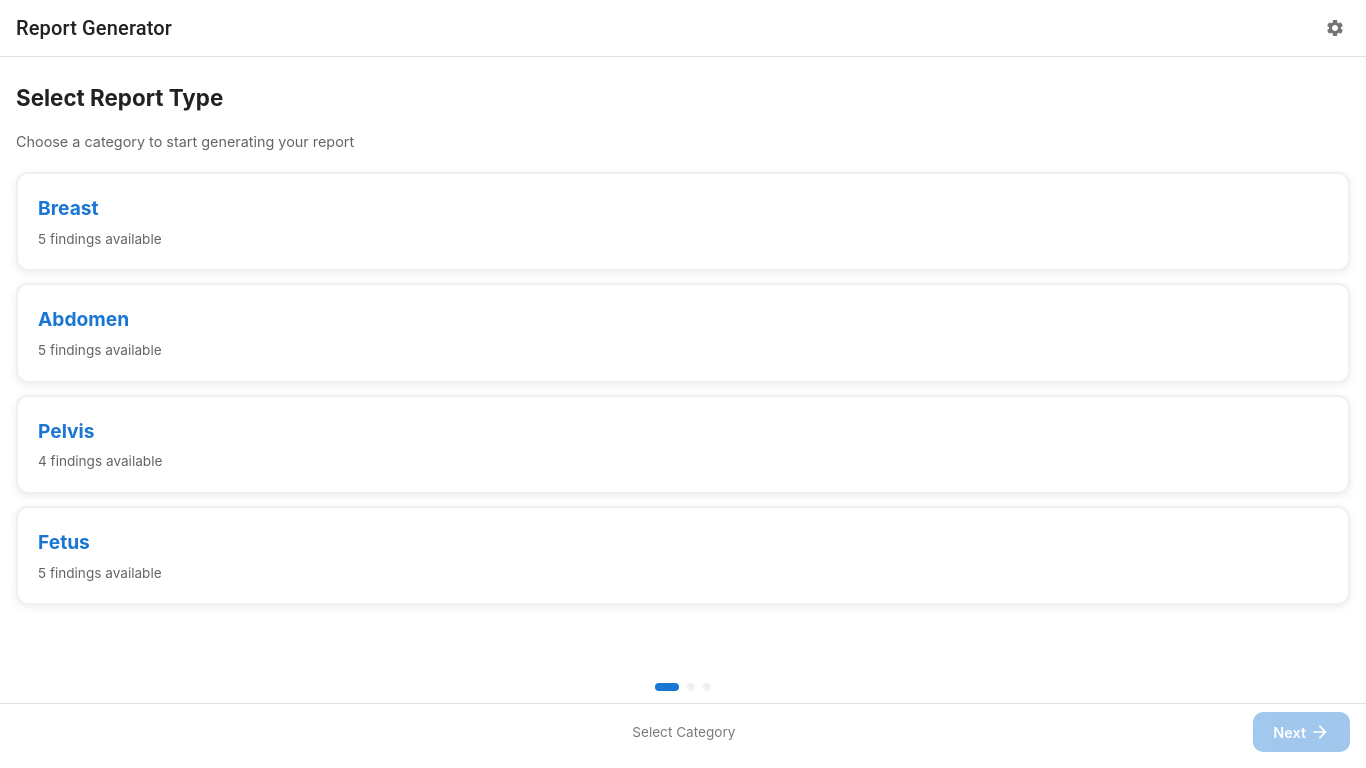
Scenario: MobileReportFlow › Print surfaces an error Snackbar when PDFService throws
Click the heading "Breast": (68, 208) [38,196,99,220]
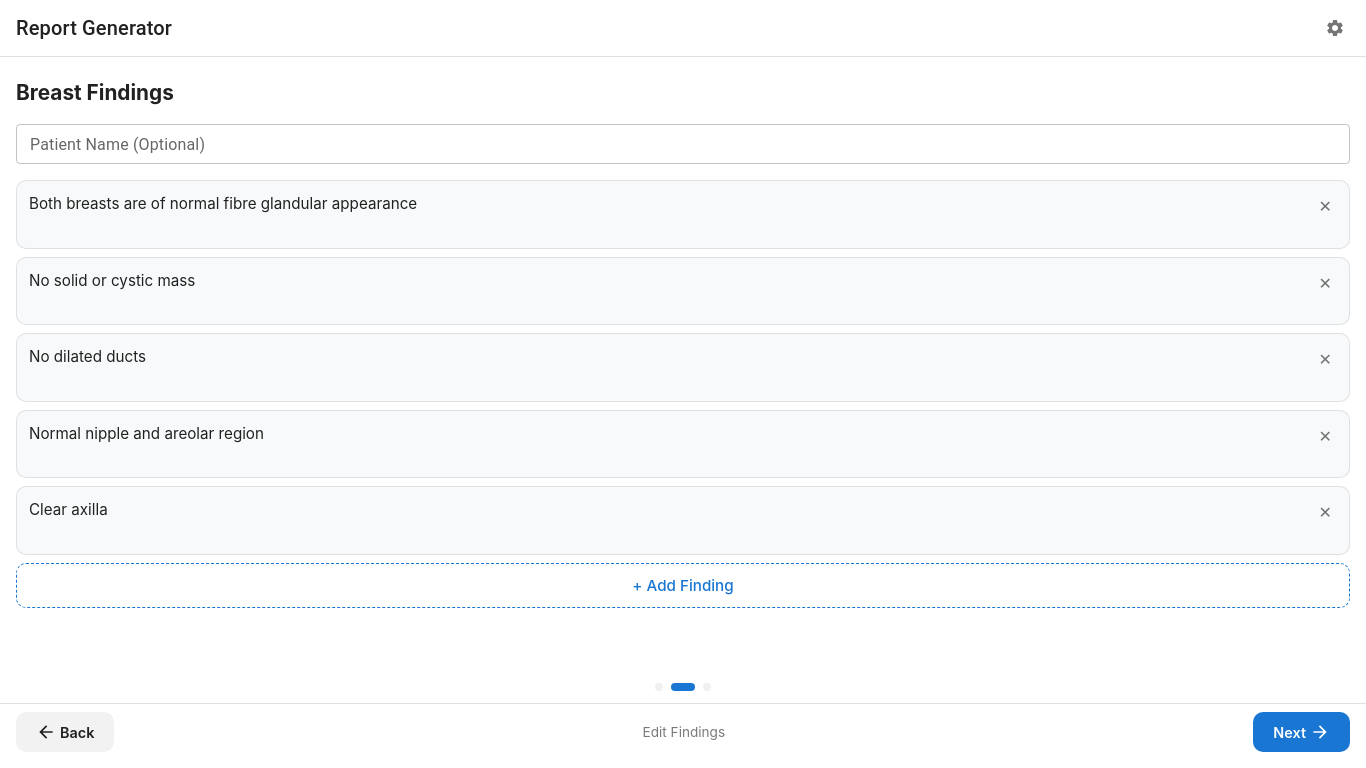
Click the button "Next": (1302, 732) [1253,712,1350,752]
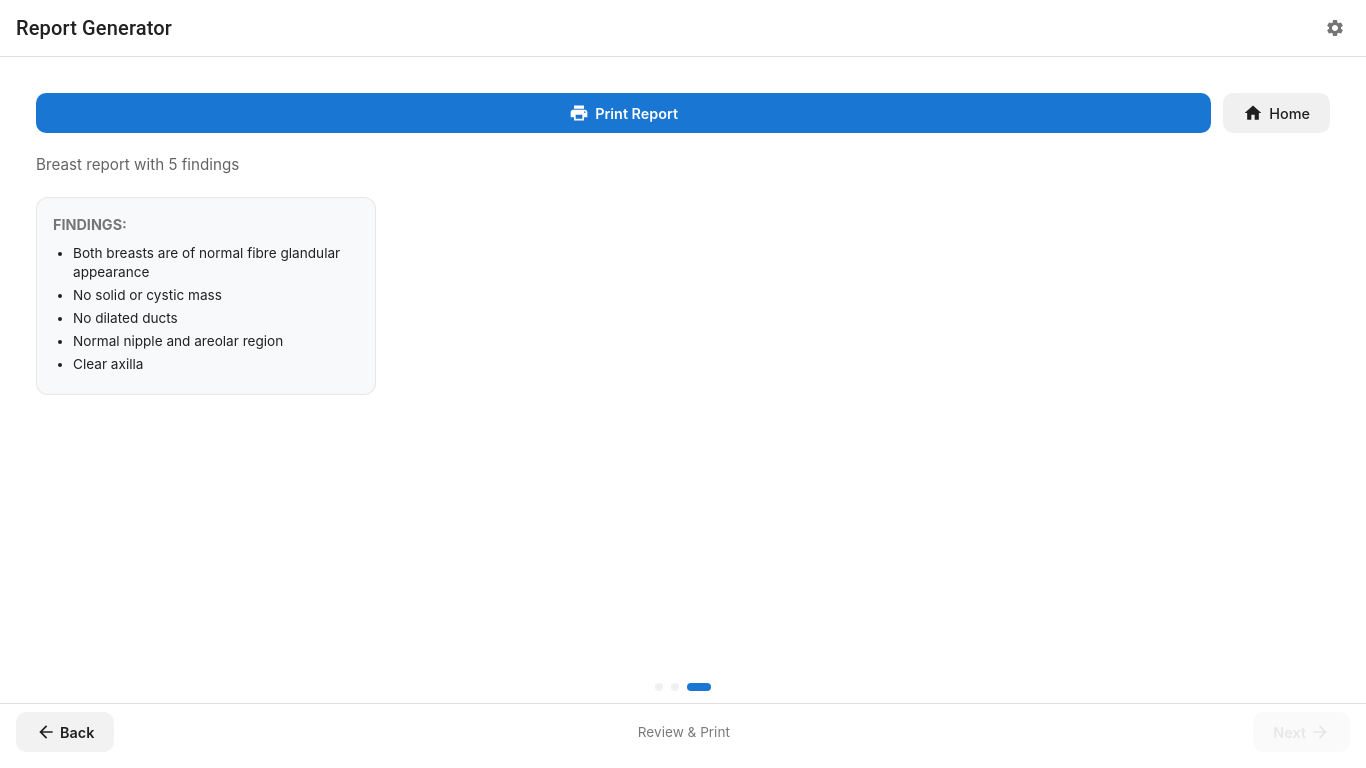
Click the button "Print Report": (624, 113) [36,93,1211,133]
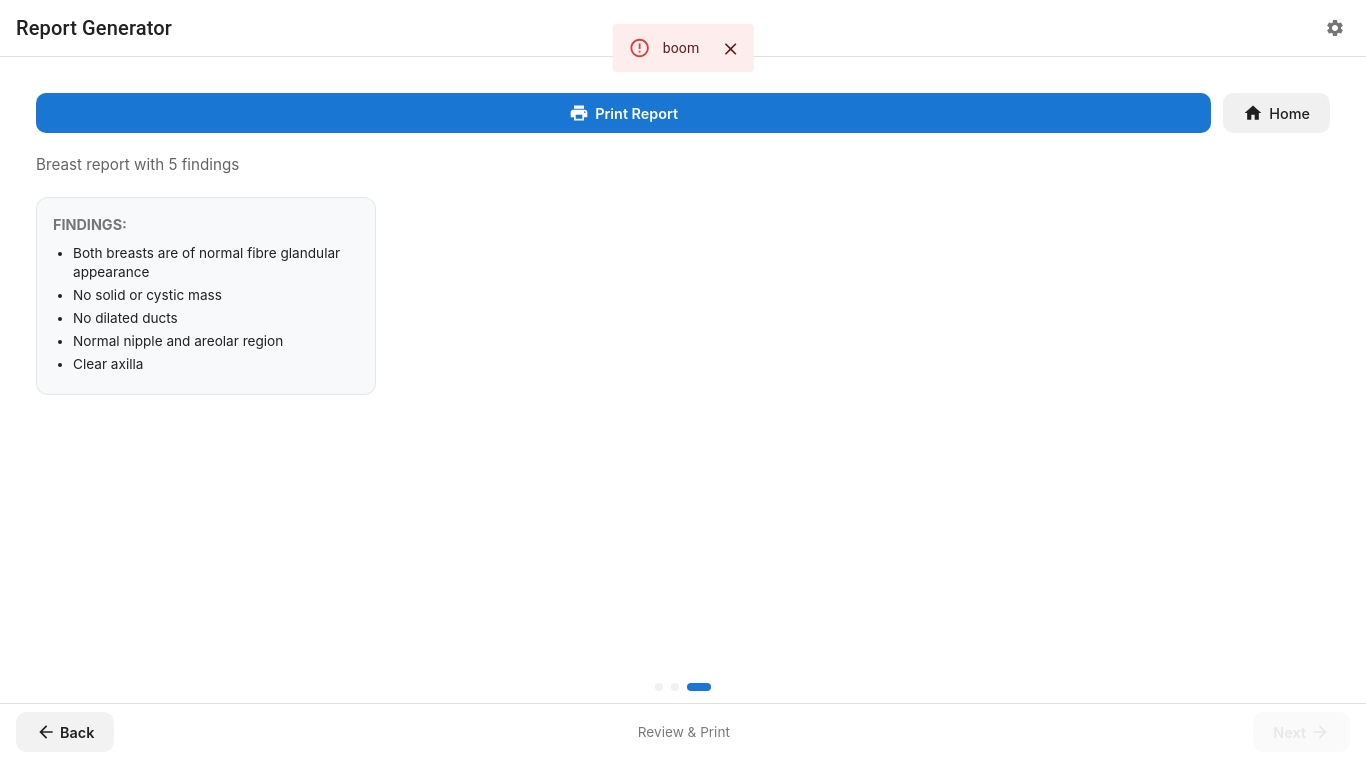
Check: the button "Print Report" is shown, box [36,93,1211,133]
Check: the message reads "boom", box [663,40,699,56]
